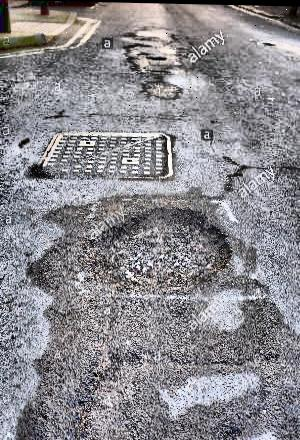pothole: (75, 199, 233, 298), (144, 54, 170, 60)
